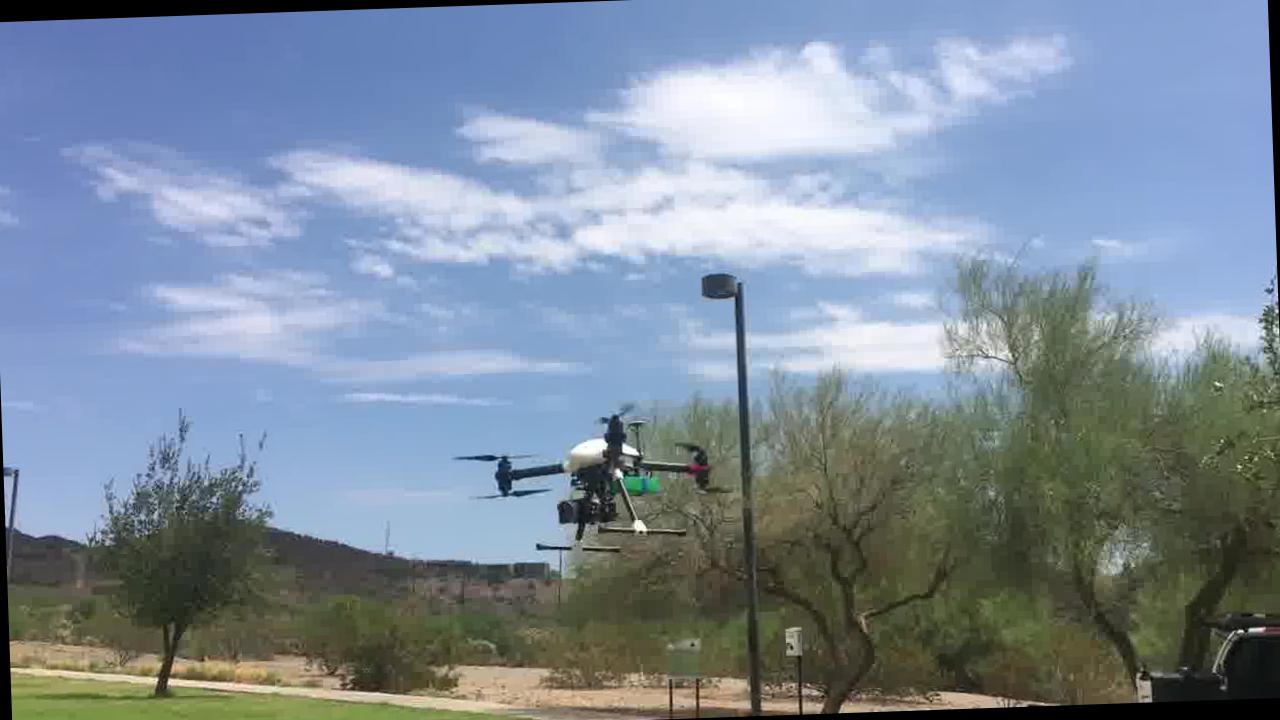drone: (481, 404, 724, 557)
